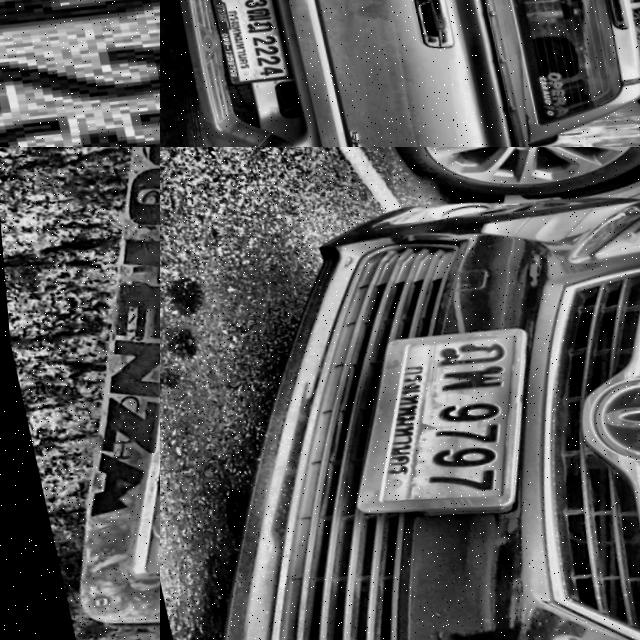license-plate: (0, 147, 160, 640), (307, 314, 567, 532), (0, 0, 160, 147), (202, 0, 287, 86)
